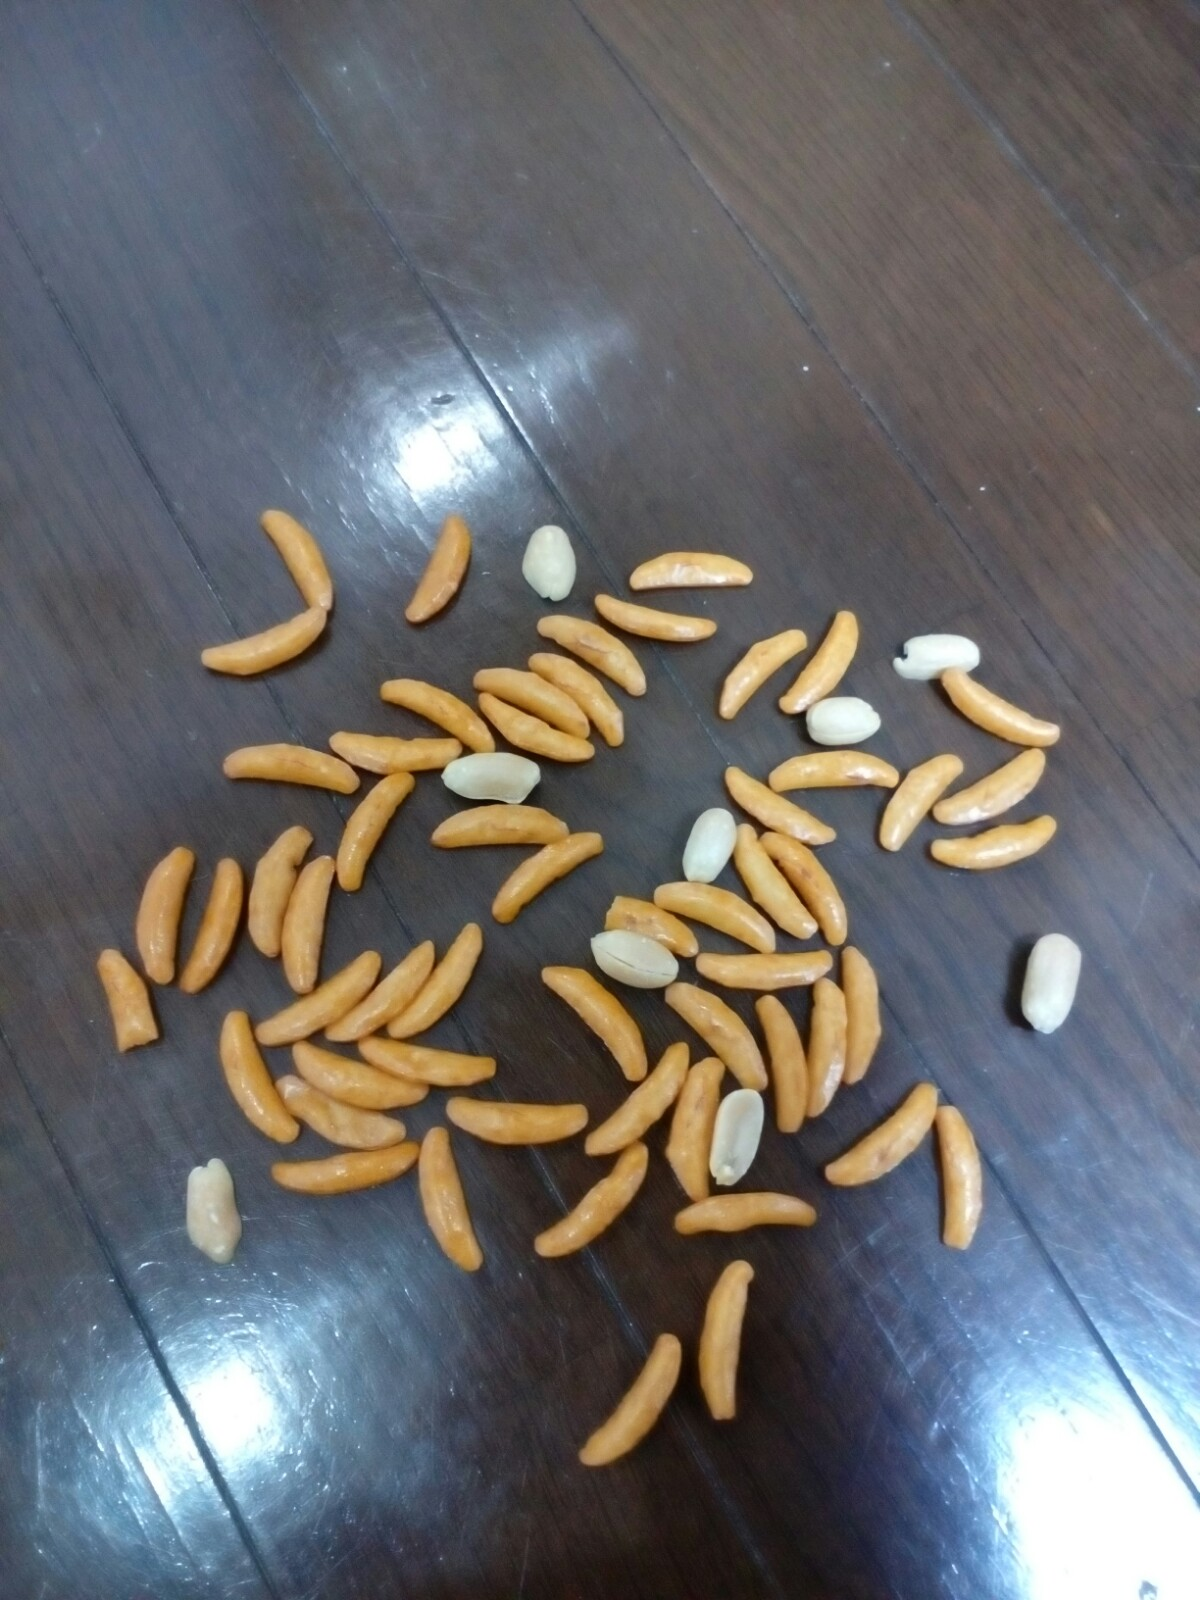peanut: (1018, 929, 1087, 1042), (434, 740, 545, 806), (890, 616, 989, 690), (673, 799, 750, 893), (707, 1078, 771, 1191), (184, 1155, 245, 1270), (586, 927, 679, 997), (795, 689, 887, 750), (521, 519, 577, 612)
